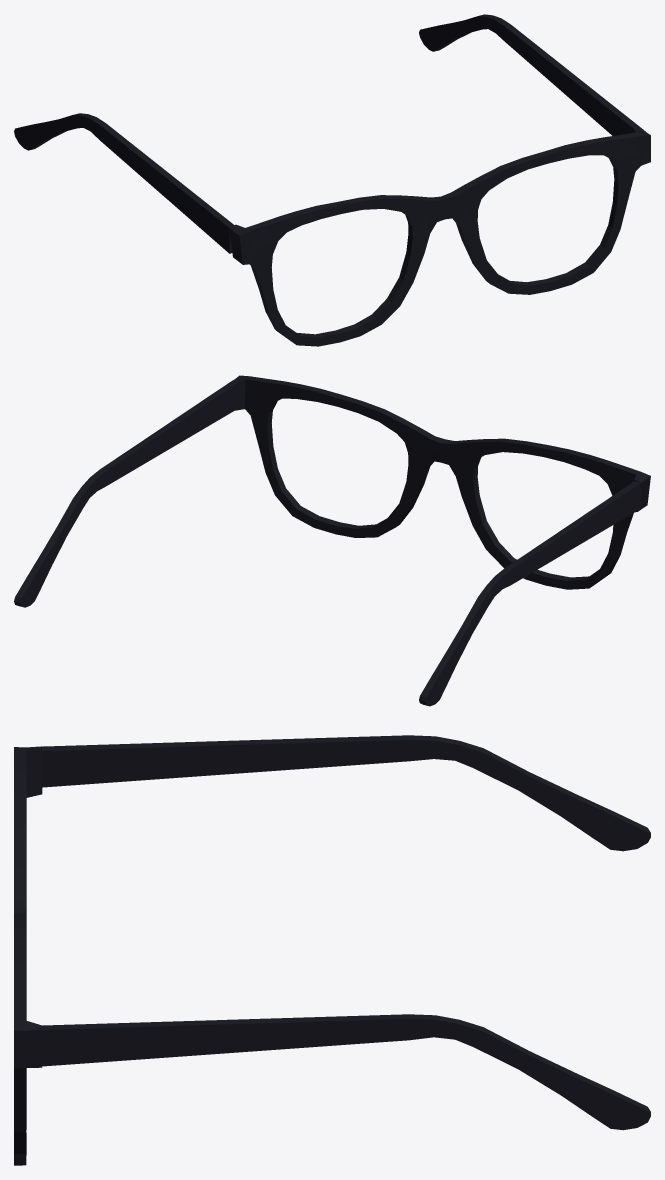
Rendered from mhw_spamrakuen_tbm_glasses_frames_01.glb.
3 renders of one model, top to bottom at view 1: azimuth 30°, elevation 25°; view 2: azimuth 150°, elevation 25°; view 3: azimuth 270°, elevation 25°, orthographic. The views are drawn at different scales.
Parts seen in each view (by area): view 1: mhw_spamrakuen_tbm_glasses_frames_01; view 2: mhw_spamrakuen_tbm_glasses_frames_01; view 3: mhw_spamrakuen_tbm_glasses_frames_01.
Boxes of the visible parts, box(x1,y1,x2,y2) form: mhw_spamrakuen_tbm_glasses_frames_01: box(14, 14, 650, 346); mhw_spamrakuen_tbm_glasses_frames_01: box(14, 375, 650, 706); mhw_spamrakuen_tbm_glasses_frames_01: box(14, 735, 650, 1165).
Bounding box in the file's own units: 0.1597 × 0.0518 × 0.1516.
Materials: 1 (1 with a texture image).
